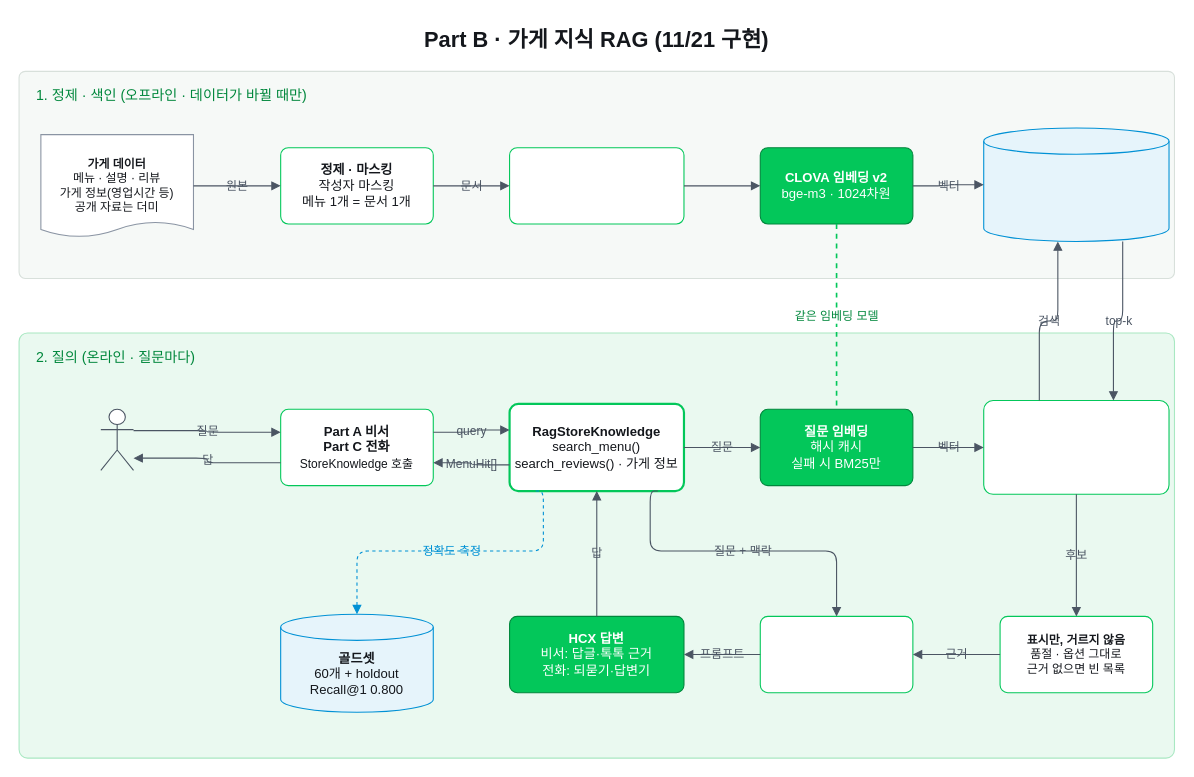
Image size: 1194x777. Some labels were removed from this diagram. The centre of each missing label's shape, as x and y in pixels:
NCP Cloud DB PostgreSQL + pgvector 메뉴·리뷰·가게 정보 벡터: pixel 1076 184
규칙 먼저, 그다음 하이브리드 ① 정확 일치 · 묶음 ② 의도 · 태그 · 오타 ③ BM25 + 벡터 → RRF: pixel 1076 446
근거 고르기 리랭커 없음 메뉴 필드 · 후기 3개: pixel 836 654
별칭 · 묶음 aliases · 원어명 · family Kiwi 사용자 사전: pixel 596 185
사장님 · 손님: pixel 117 439
